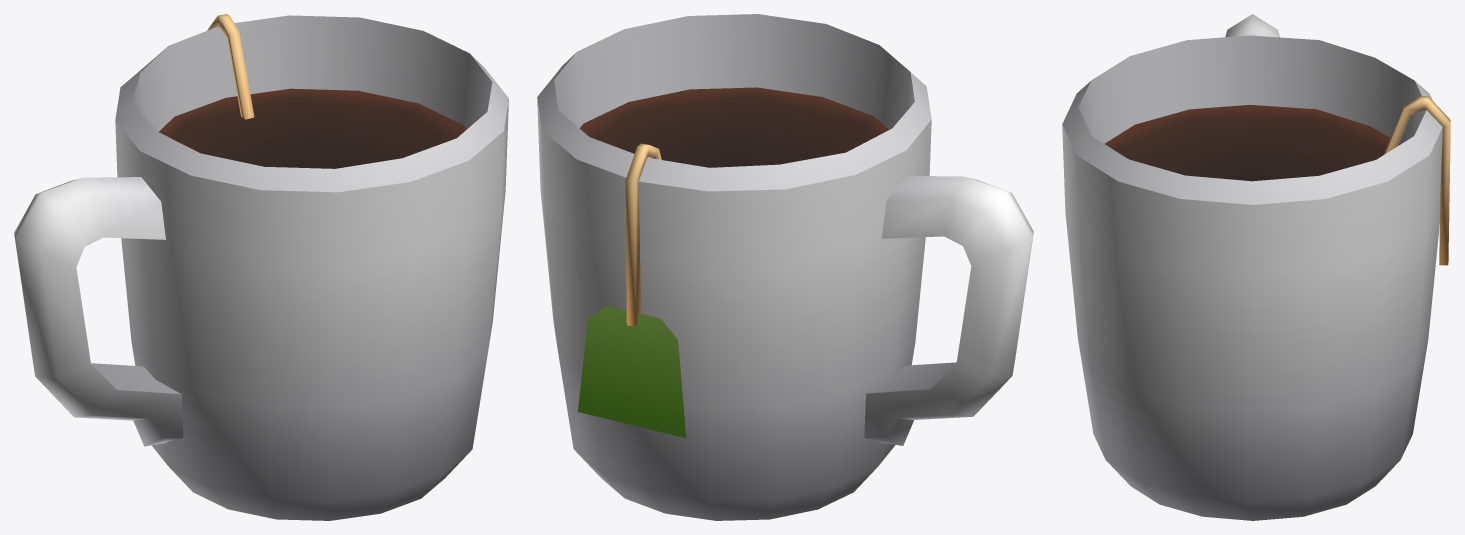
The model's file is m_Mug02_Tea04.fbx.
3 views of the same model, side by side, from view 1: azimuth 30°, elevation 25°; view 2: azimuth 150°, elevation 25°; view 3: azimuth 270°, elevation 25° (orthographic). The views are drawn at different scales.
Visible parts, largest first — view 1: m_Mug02_Tea04; view 2: m_Mug02_Tea04; view 3: m_Mug02_Tea04.
Boxes of the visible parts, <box> form: m_Mug02_Tea04: <box>14,14,508,520</box>; m_Mug02_Tea04: <box>537,14,1033,520</box>; m_Mug02_Tea04: <box>1062,14,1450,520</box>.
Size of the model in its own units: 15.22 by 11.86 by 11.36.
